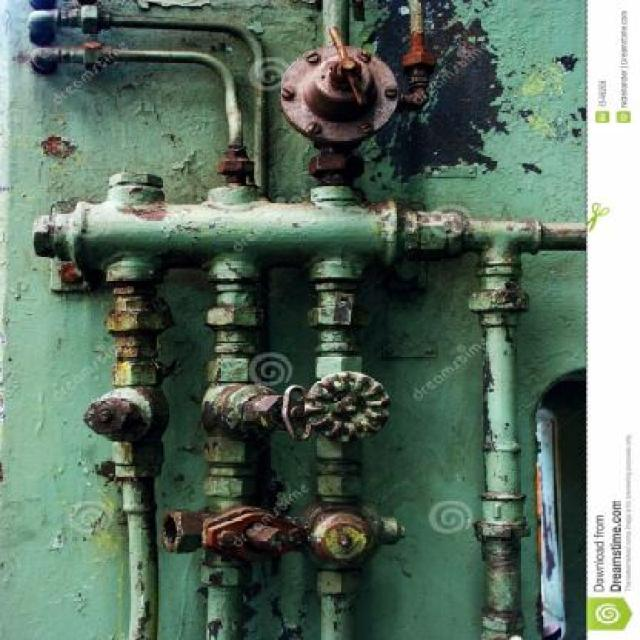corrosion: (29, 0, 568, 640)
